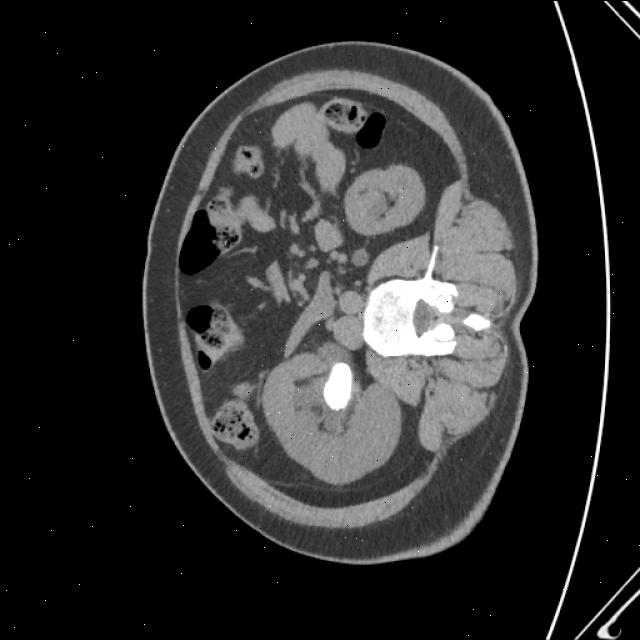kidneystone: (324, 361, 352, 410)
